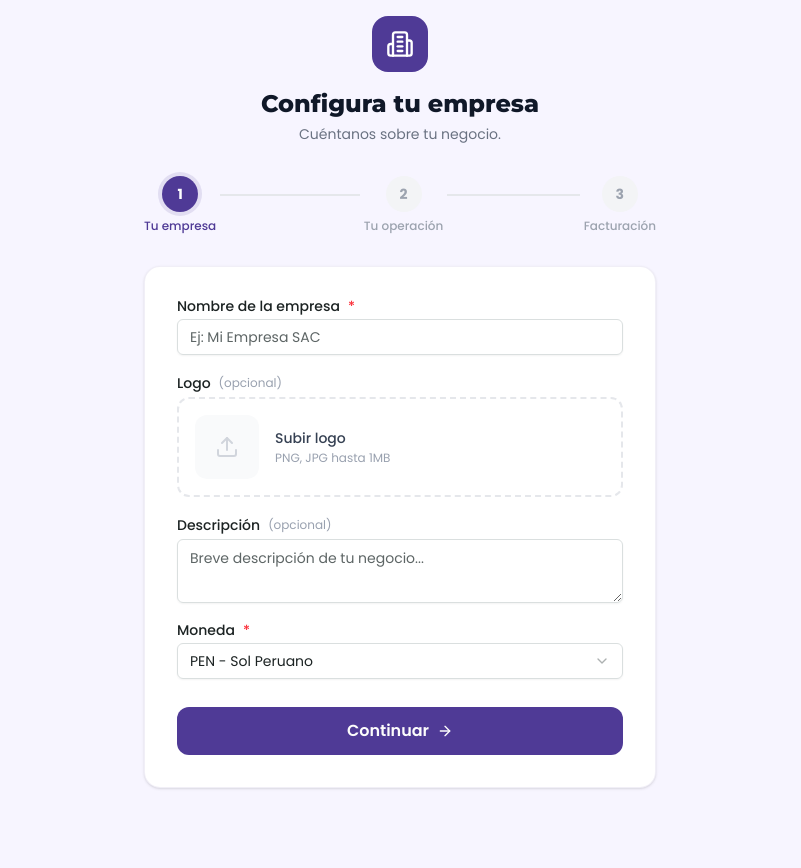
it: NewCompanyPage (onboarding, FEAT-11) › preguntas obligatorias de la operación › bloquea un submit directo cuando faltan las preguntas
In the field with id "companyName": [400, 337] box [177, 319, 623, 355], type "Mi Empresa SAC"
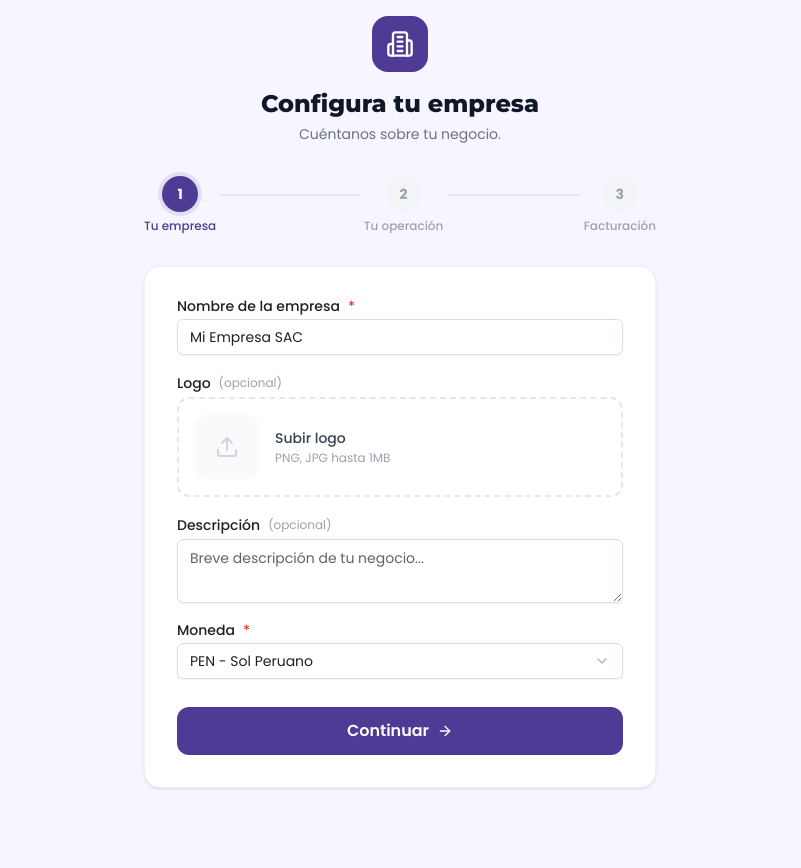
Click the button "Continuar": [400, 731] box [177, 707, 623, 755]
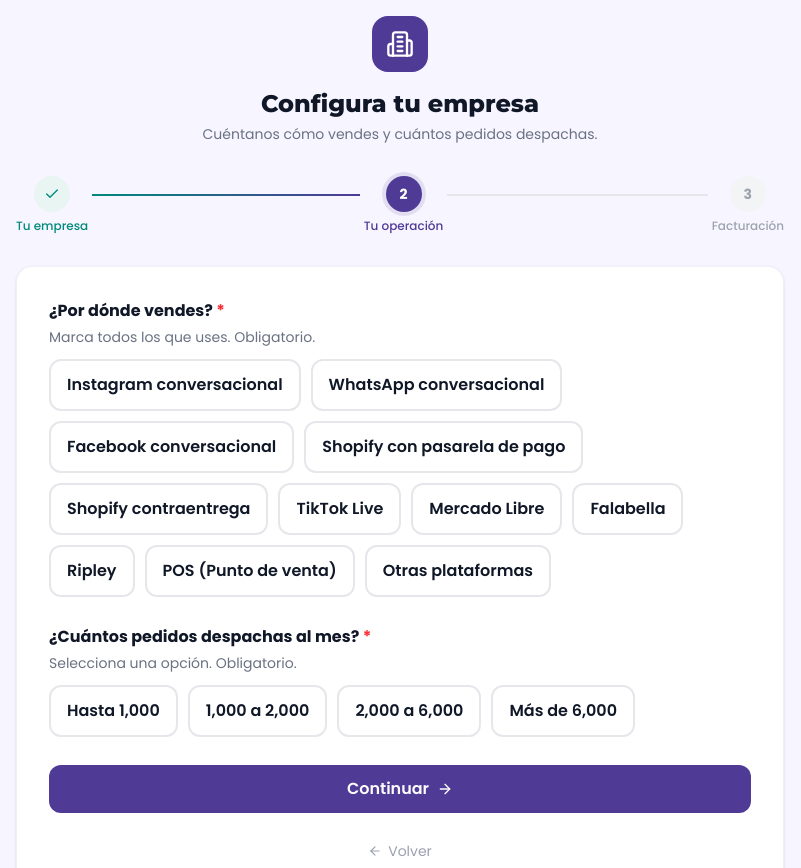
Submit the form, box [49, 299, 751, 867]
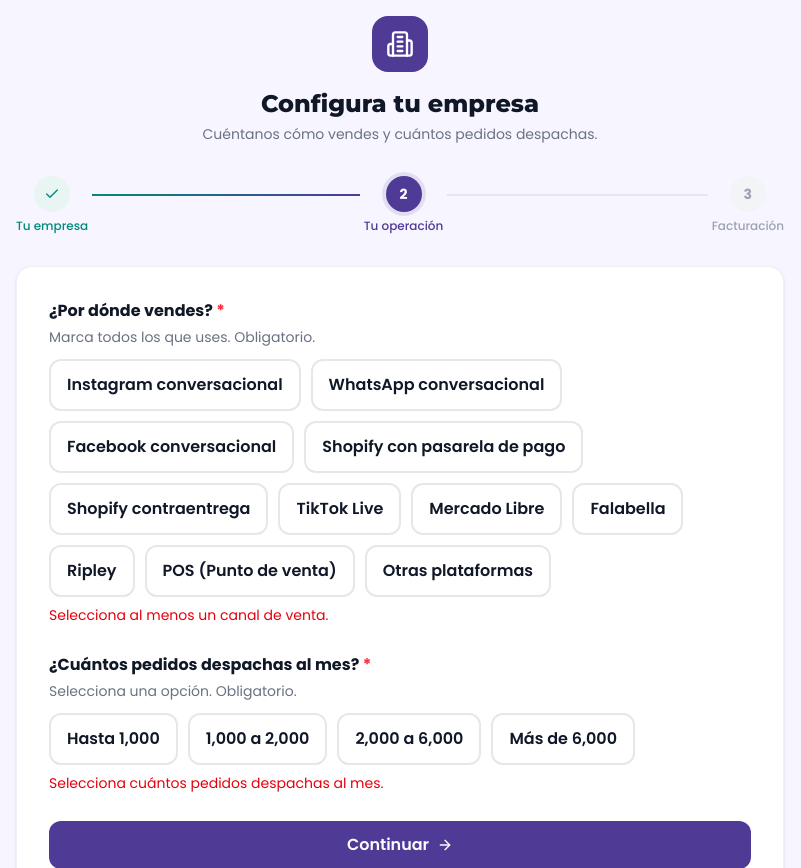
Expected: the text "Selecciona al menos un canal de venta." is shown, [49, 605, 328, 625]
Expected: the text "Selecciona cuántos pedidos despachas al mes." is shown, [49, 773, 383, 793]
